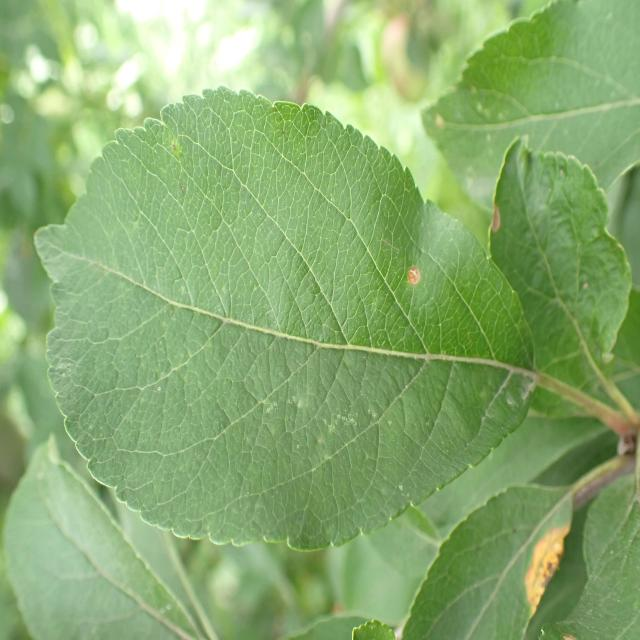Black Rot: (362, 237, 442, 312), (486, 184, 525, 274)
